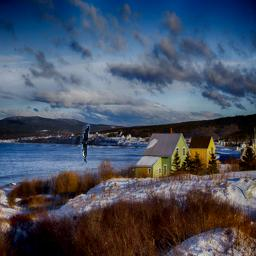Crow: (80, 124, 91, 164)
